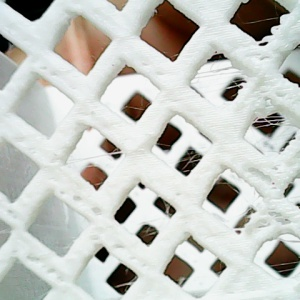3dpstringing: (191, 57, 248, 99), (243, 13, 291, 48), (62, 149, 127, 172), (170, 144, 213, 177), (227, 204, 270, 235), (248, 110, 291, 136), (266, 249, 298, 278), (44, 233, 82, 256), (113, 270, 144, 292), (207, 178, 243, 195), (139, 224, 163, 245), (160, 199, 180, 218), (115, 105, 147, 115), (177, 270, 195, 287), (167, 50, 184, 63), (1, 225, 18, 237), (89, 179, 105, 190)
3dpunderextrusion: (255, 76, 296, 113), (24, 253, 69, 283), (62, 190, 106, 219), (249, 168, 290, 197), (262, 202, 298, 233)
